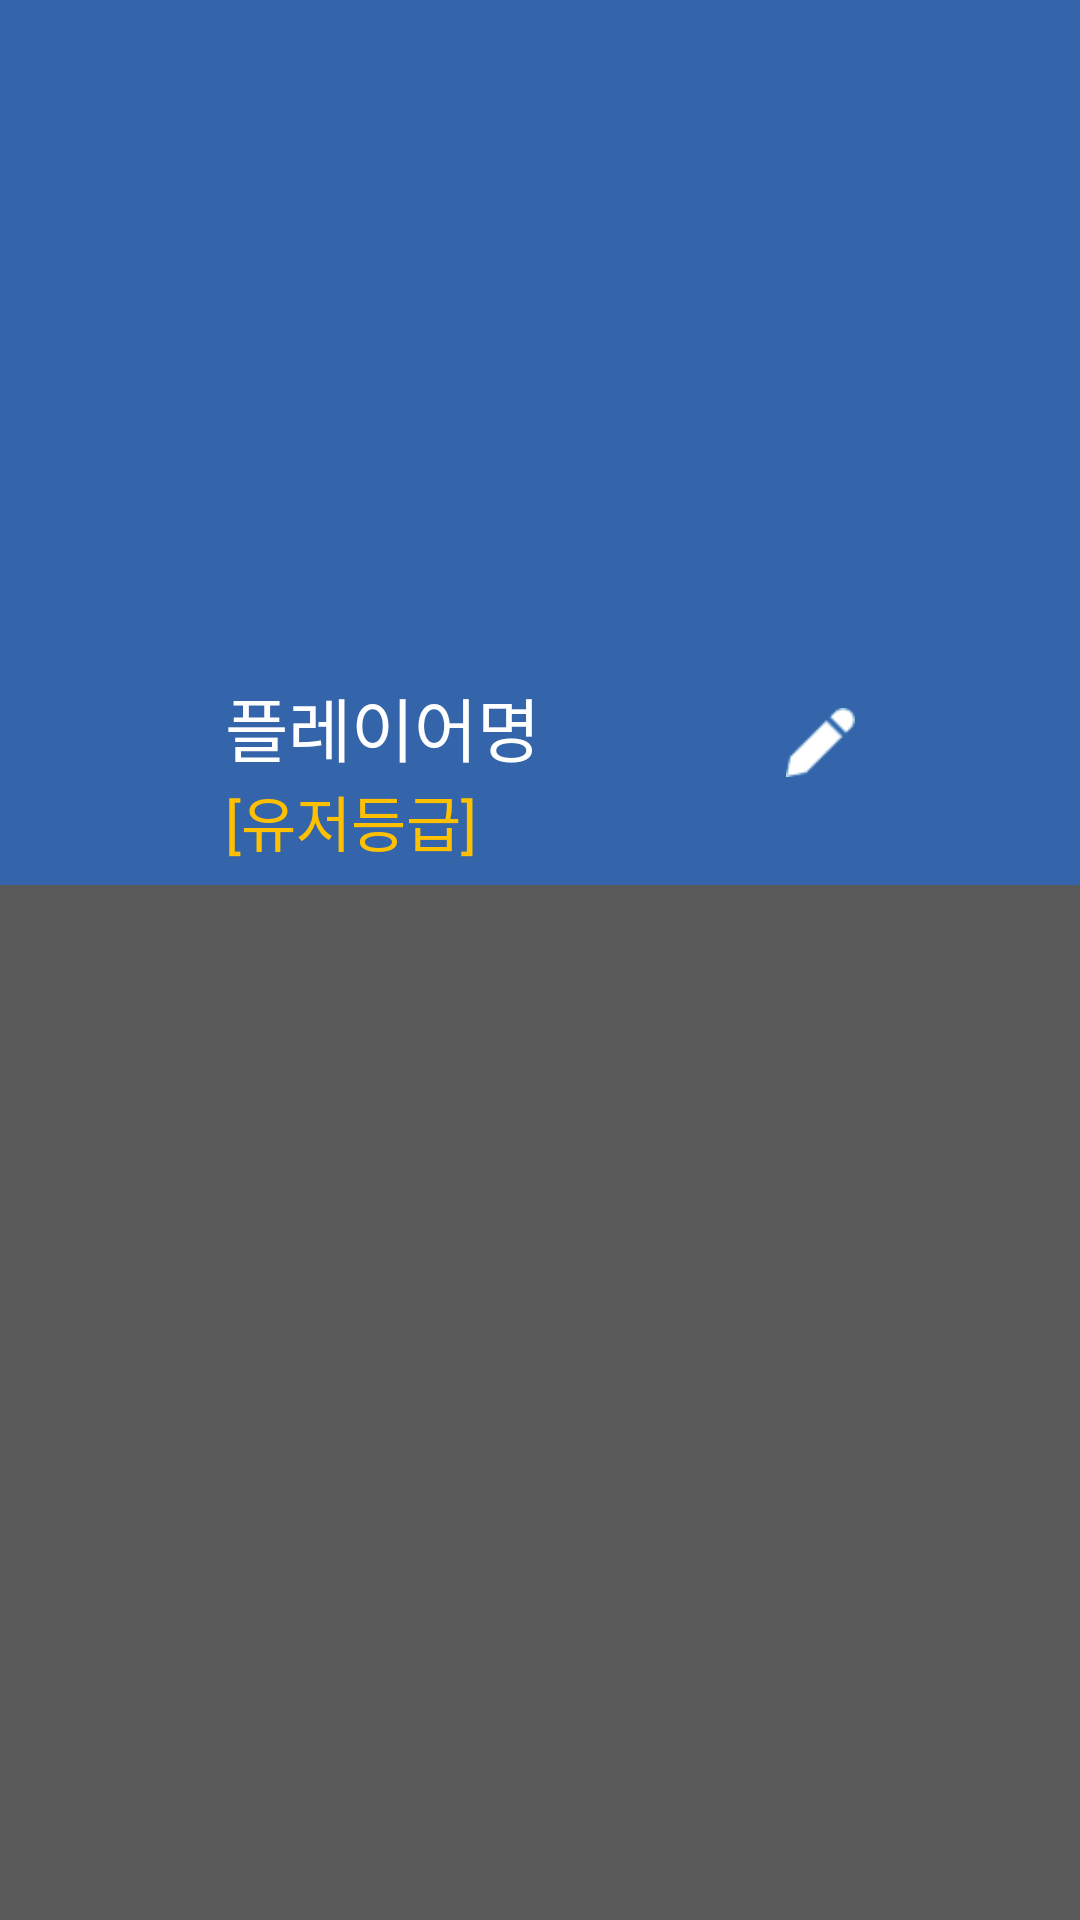

Point at icon controls on the screen. Image size 1080w x 1920h, points as [x,y].
pencil: [820,742]
